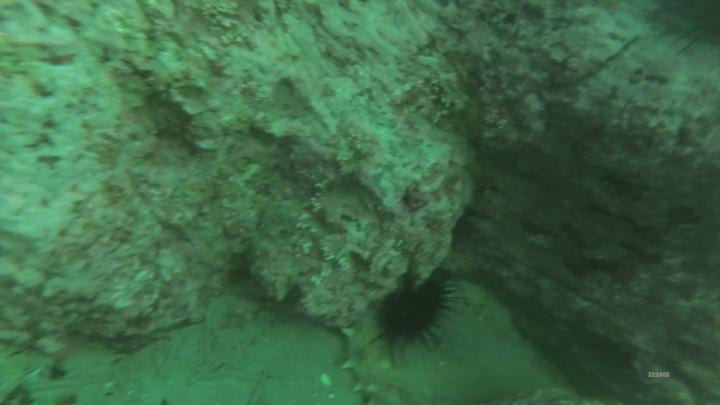echinus: (388, 278, 448, 340)
holothurian: (342, 315, 404, 405)
scallop: (320, 371, 336, 392)
